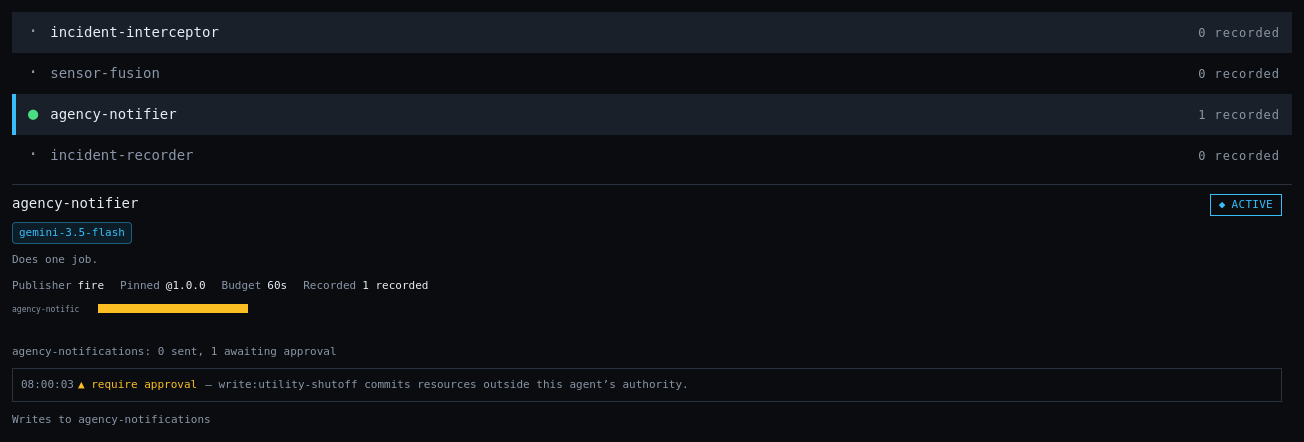
every agent gets its own visual › shows face coverage per face when a structure is on screen
Click the button "· sensor-fusion 0 recorded".
click(105, 73)  # box [12, 53, 1292, 94]
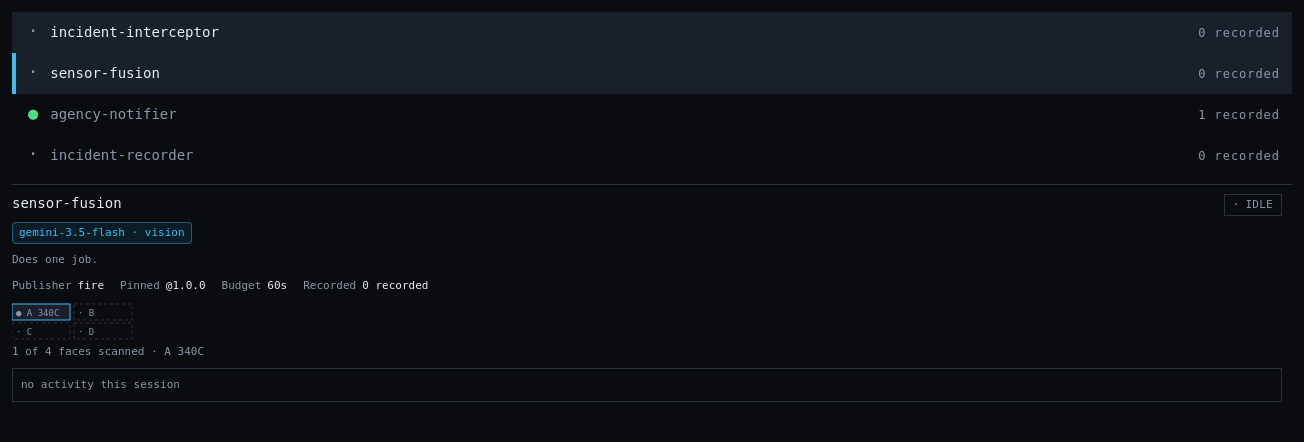
Now the element with test id "fleet-visual-sensor-fusion" shows "1 of 4 faces scanned", box [12, 345, 204, 358]
